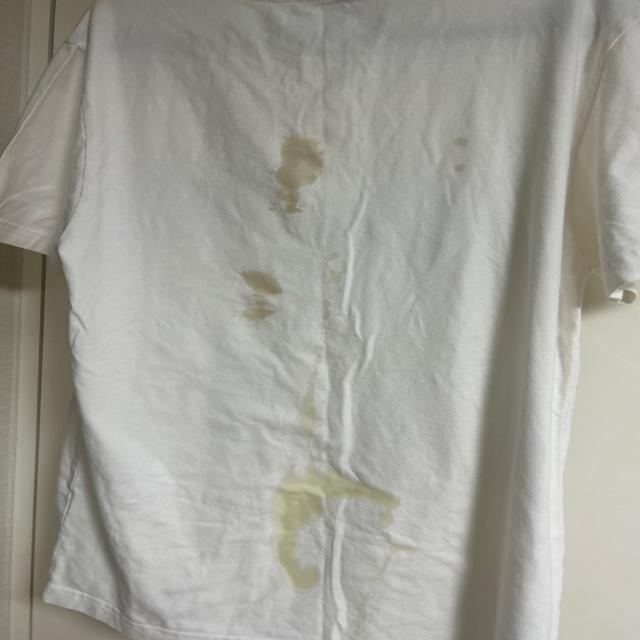stain: (266, 463, 409, 588), (267, 133, 340, 218), (295, 358, 333, 437), (244, 270, 279, 330), (310, 252, 354, 298), (441, 135, 473, 175), (314, 302, 342, 334)
